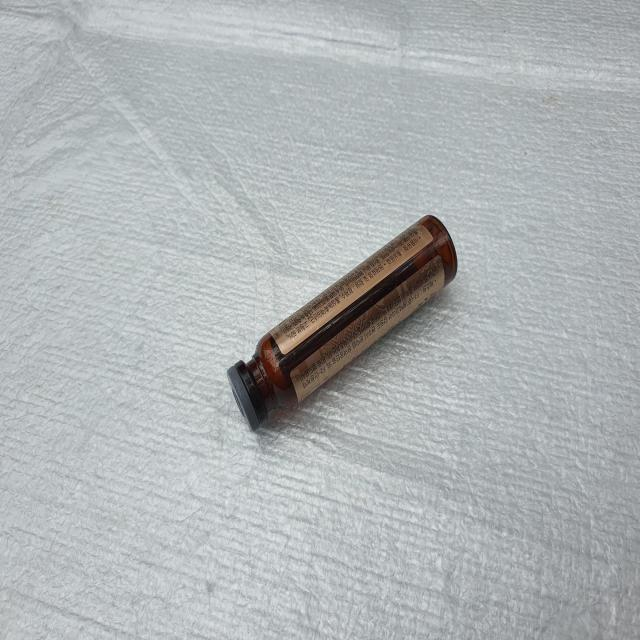glass: (227, 215, 458, 430)
